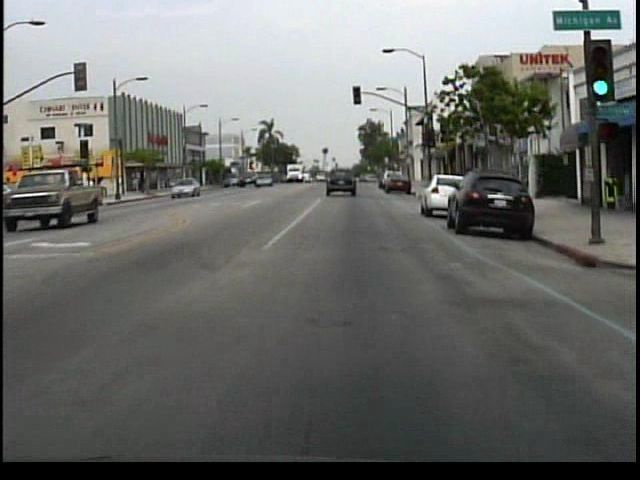person: (82, 180, 102, 207)
